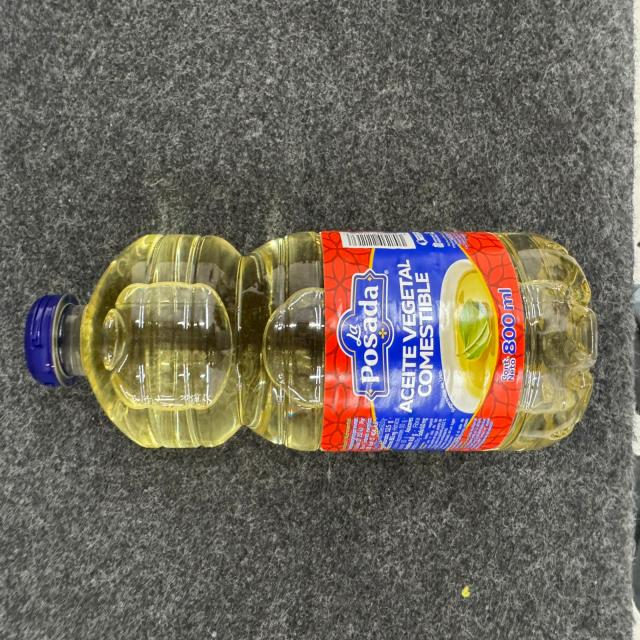ACEITE VEGETAL LA POSADA 800 ML: (25, 223, 599, 453)
